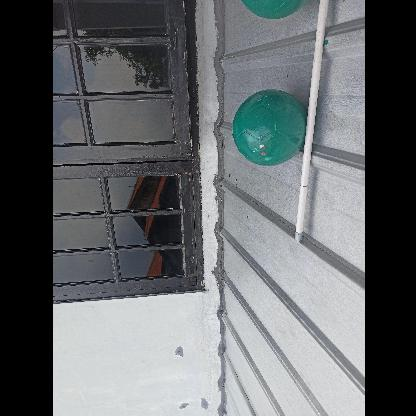green_ball: (231, 92, 307, 168)
